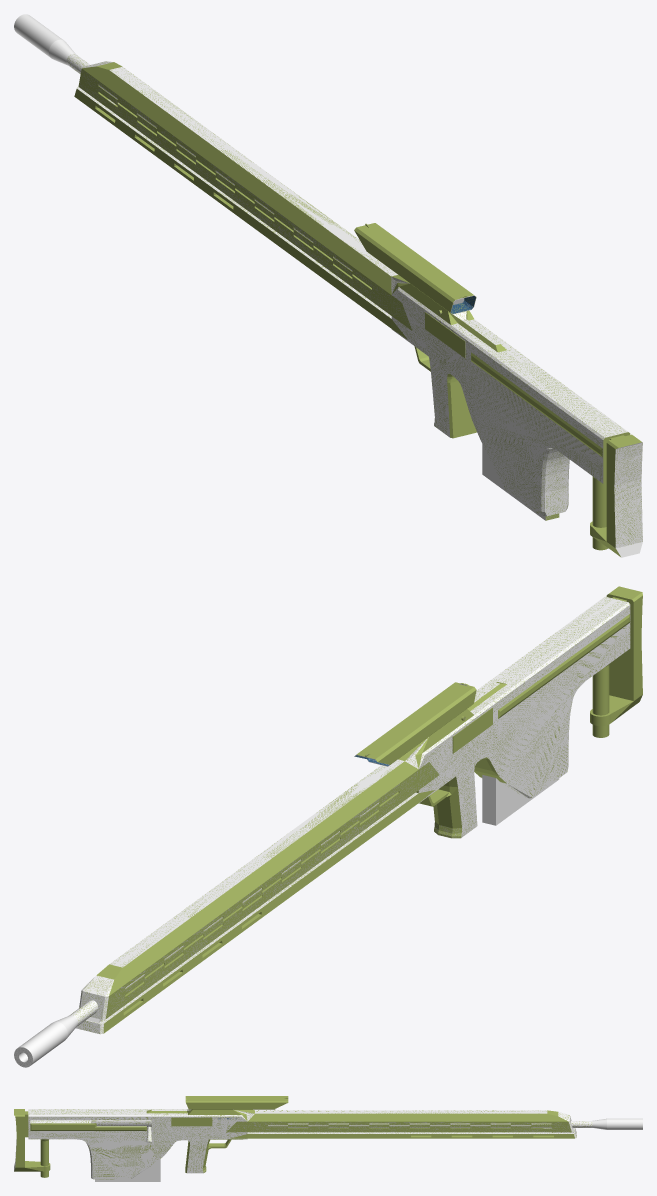
3 renders of one model, top to bottom at view 1: azimuth 30°, elevation 25°; view 2: azimuth 150°, elevation 25°; view 3: azimuth 270°, elevation 25°, orthographic. The views are drawn at different scales.
Visible parts, largest first — view 1: mesh24_mesh24-geometry; view 2: mesh24_mesh24-geometry, mesh25_mesh25-geometry; view 3: mesh24_mesh24-geometry, mesh26_mesh26-geometry.
Part boxes in pixels (box(x1,y1,x2,y2)): mesh24_mesh24-geometry: box(14, 14, 642, 557); mesh24_mesh24-geometry: box(14, 586, 642, 1067); mesh25_mesh25-geometry: box(452, 707, 492, 753); mesh24_mesh24-geometry: box(14, 1096, 642, 1181); mesh26_mesh26-geometry: box(171, 1117, 212, 1126).
Bounding box in the file's own units: 0.0415 × 0.1428 × 0.9889.
